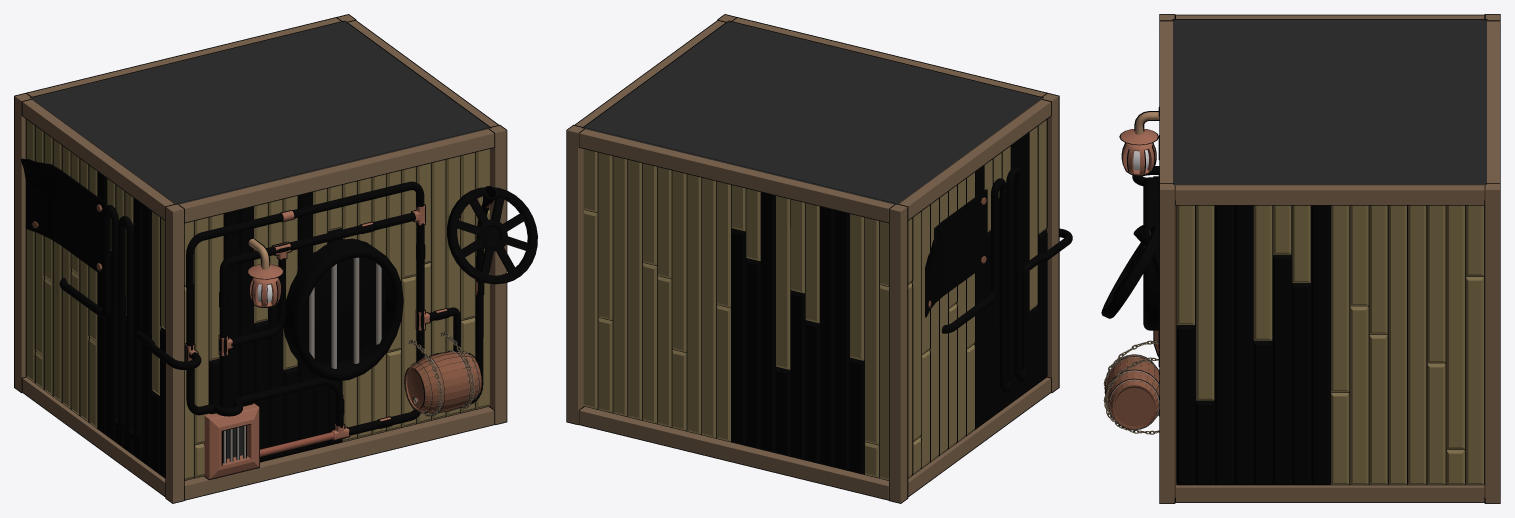
Rendered from Tawer2L.fbx.
The picture shows the model from 3 angles, left to right: view 1: azimuth 30°, elevation 25°; view 2: azimuth 150°, elevation 25°; view 3: azimuth 270°, elevation 25°; orthographic projection. The views are drawn at different scales.
Visible parts, largest first — view 1: Cylinder.001; view 2: Cylinder.001; view 3: Cylinder.001.
Boxes of the visible parts, bbox=[...] form: Cylinder.001: bbox=[14, 14, 537, 503]; Cylinder.001: bbox=[566, 14, 1072, 503]; Cylinder.001: bbox=[1101, 14, 1500, 503].
Bounding box in the file's own units: 130 × 100 × 115.
